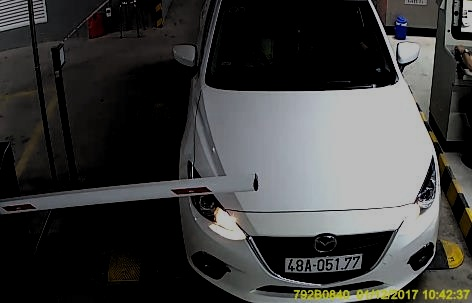plate: (283, 253, 362, 273)
